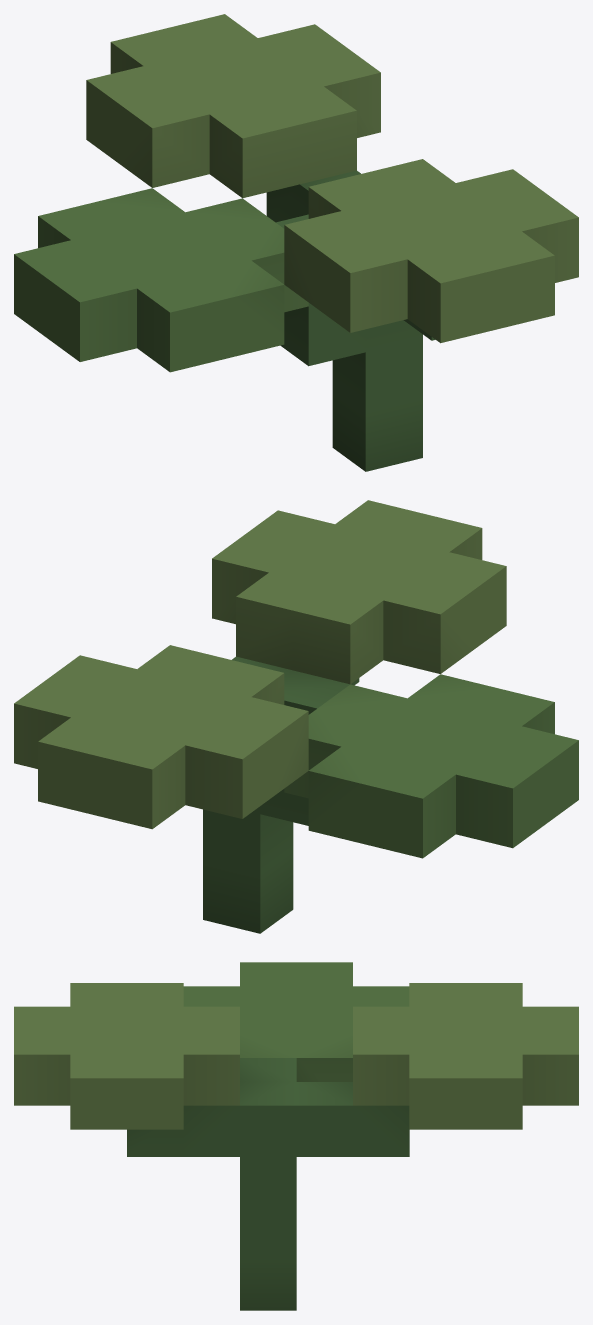
File: wild_strawberry_young_spring.glb
3 renders of one model, top to bottom at view 1: azimuth 30°, elevation 25°; view 2: azimuth 150°, elevation 25°; view 3: azimuth 270°, elevation 25°, orthographic. The views are drawn at different scales.
Visible parts, largest first — view 1: VoxelVisual; view 2: VoxelVisual; view 3: VoxelVisual.
Part boxes in pixels (x1,y1,x2,y2): VoxelVisual: [14, 14, 578, 471]; VoxelVisual: [14, 500, 578, 933]; VoxelVisual: [14, 962, 578, 1310].
Size of what is drawn, in the model's own units: 0.4375 by 0.3125 by 0.625.
